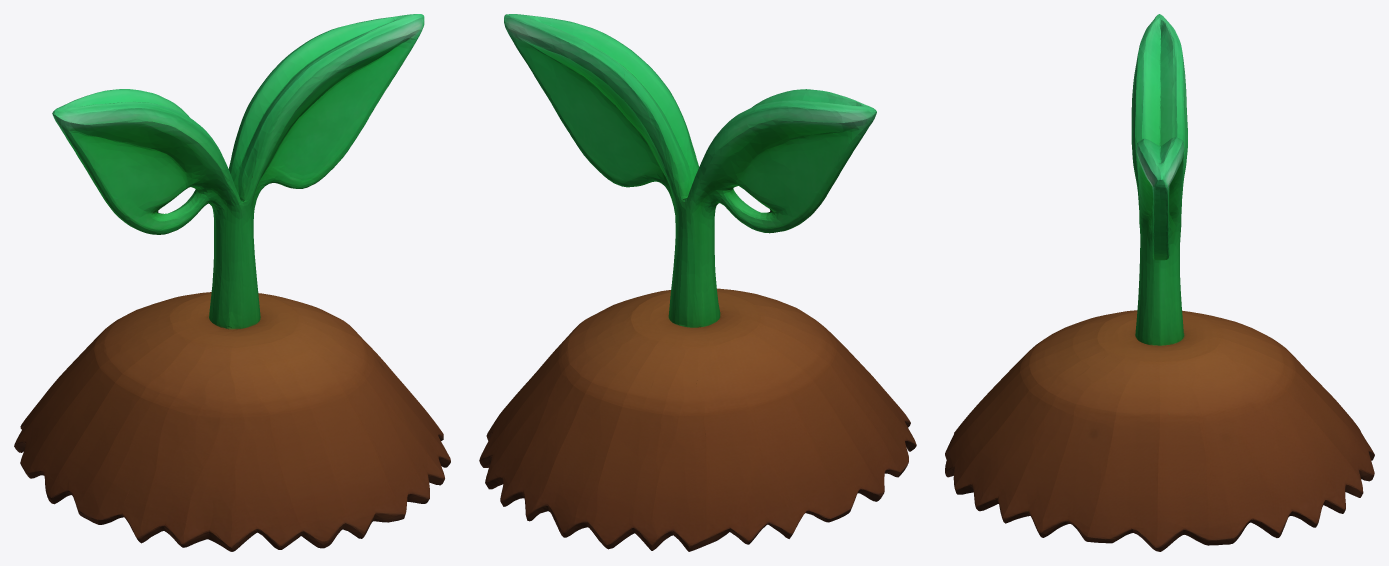
Rendered from familiarity_tree-1.glb.
3 views of the same model, side by side, from view 1: azimuth 30°, elevation 25°; view 2: azimuth 150°, elevation 25°; view 3: azimuth 270°, elevation 25° (orthographic). The views are drawn at different scales.
Visible parts, largest first — view 1: world; view 2: world; view 3: world.
Part boxes in pixels (left/top/right/bottom): world: left=14, top=14, right=450, bottom=551; world: left=479, top=14, right=916, bottom=551; world: left=945, top=14, right=1374, bottom=551.
Bounding box in the file's own units: 0.9503 × 0.9764 × 0.9927.
1 material, 1 textured.
